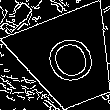O_SE: (36, 28, 101, 92)
